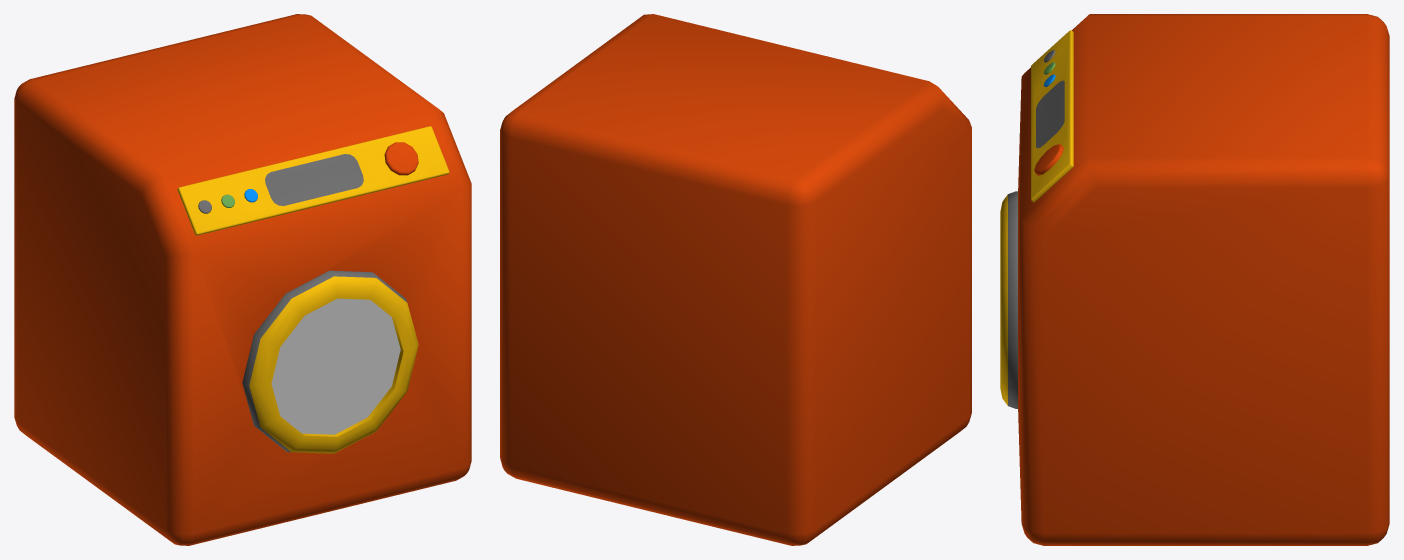
The model's file is Washing Machine_1V.fbx.
3 views of the same model, side by side, from view 1: azimuth 30°, elevation 25°; view 2: azimuth 150°, elevation 25°; view 3: azimuth 270°, elevation 25° (orthographic). The views are drawn at different scales.
Visible parts, largest first — view 1: Washing Machine_1V, Washing Machine_1V Door; view 2: Washing Machine_1V; view 3: Washing Machine_1V, Washing Machine_1V Door.
Boxes of the visible parts, bbox=[...] form: Washing Machine_1V: bbox=[14, 14, 471, 545]; Washing Machine_1V Door: bbox=[242, 270, 418, 453]; Washing Machine_1V: bbox=[500, 14, 971, 545]; Washing Machine_1V: bbox=[1018, 14, 1389, 545]; Washing Machine_1V Door: bbox=[1000, 191, 1017, 408].
Bounding box in the file's own units: 0.7624 × 0.8537 × 0.7804.
